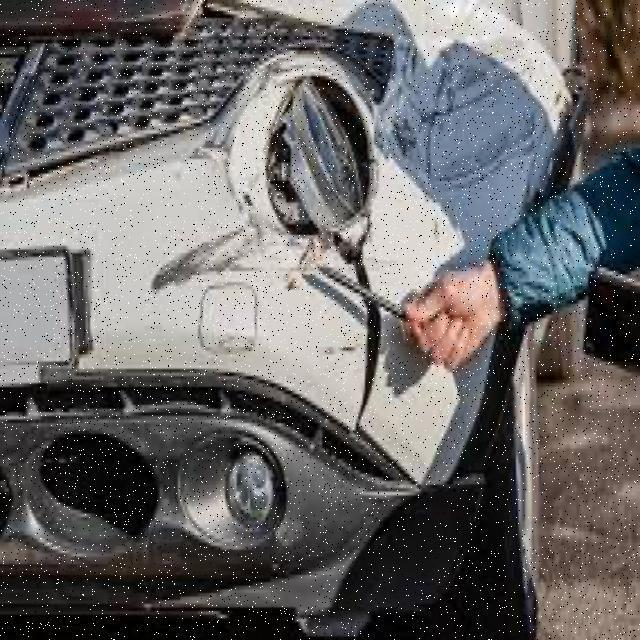front-bumper-dent: (0, 185, 503, 590)
